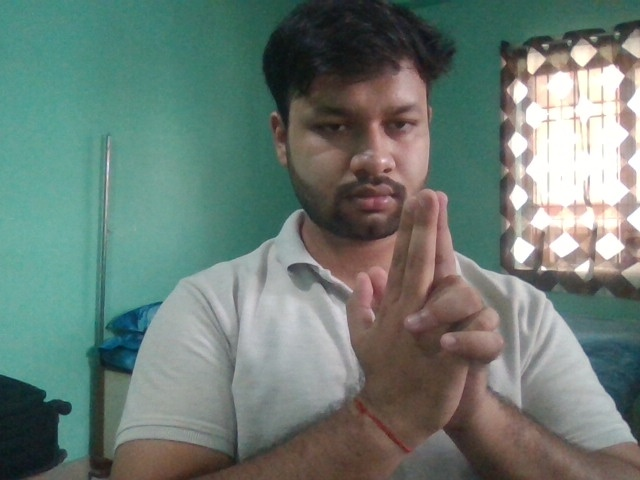1000 Years of Death: (344, 184, 505, 455)
